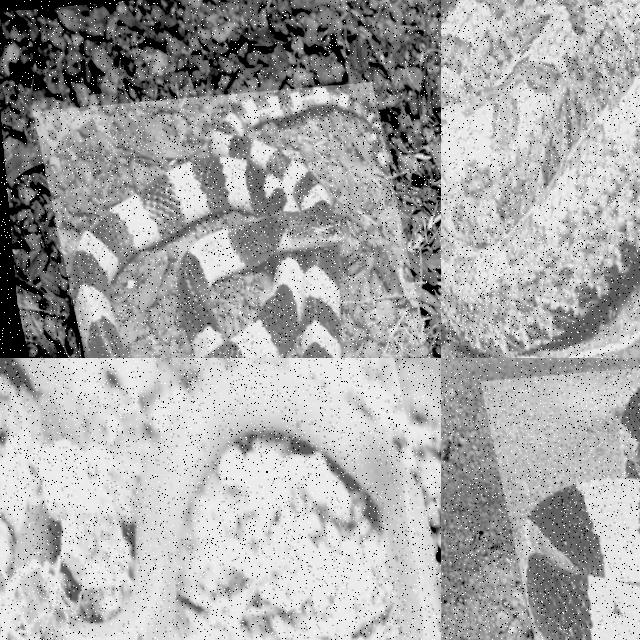Bungarus candidus: (72, 88, 361, 357)
Bungarus fasciatus: (520, 389, 639, 639)
Calliophis maculiceps: (45, 365, 440, 639)
Ovophis monticola: (441, 0, 639, 357)
